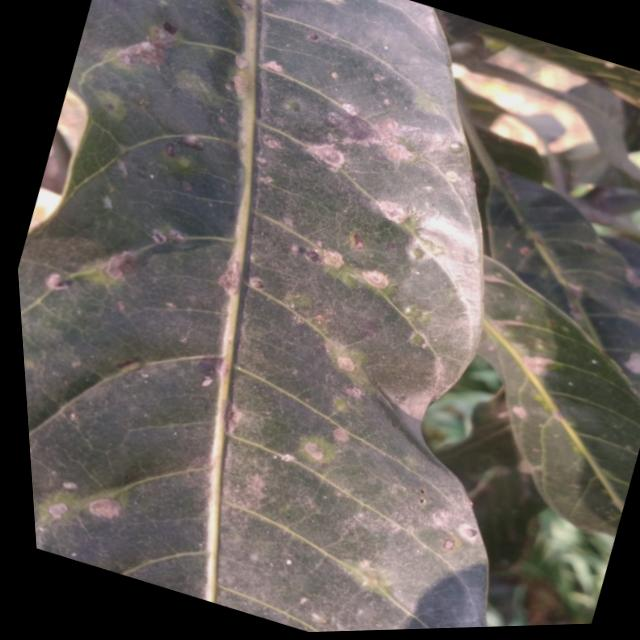Powdery Mildew: (283, 129, 349, 177), (302, 233, 355, 280), (365, 191, 413, 230)
